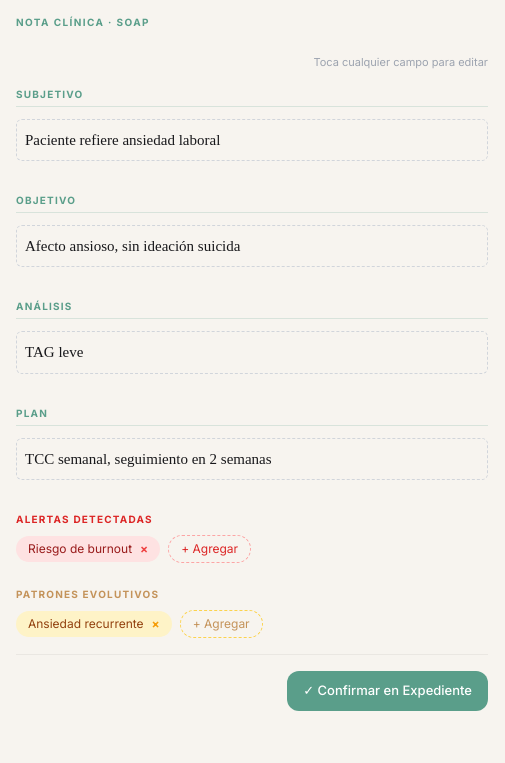
Test case: SoapNoteDocument › muestra error cuando confirmNote falla
Click the button "✓ Confirmar en Expediente" at (388, 691), box [287,671,488,710]
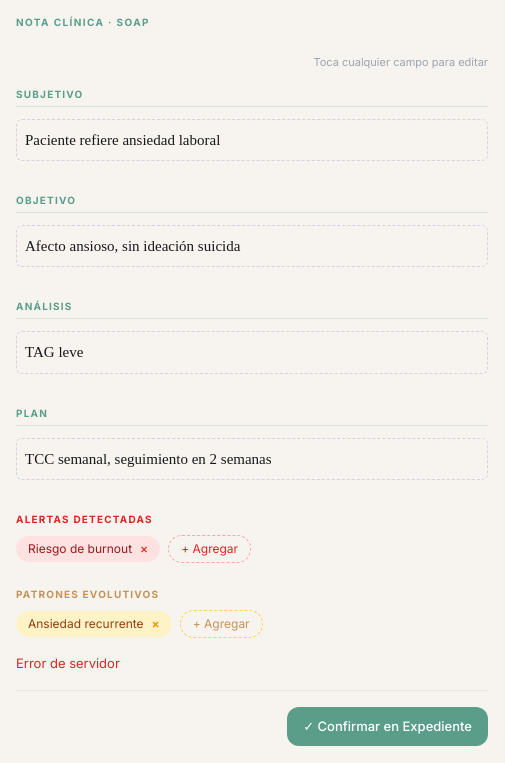
Now the text "Error de servidor" is shown, box [16,655,120,671]
